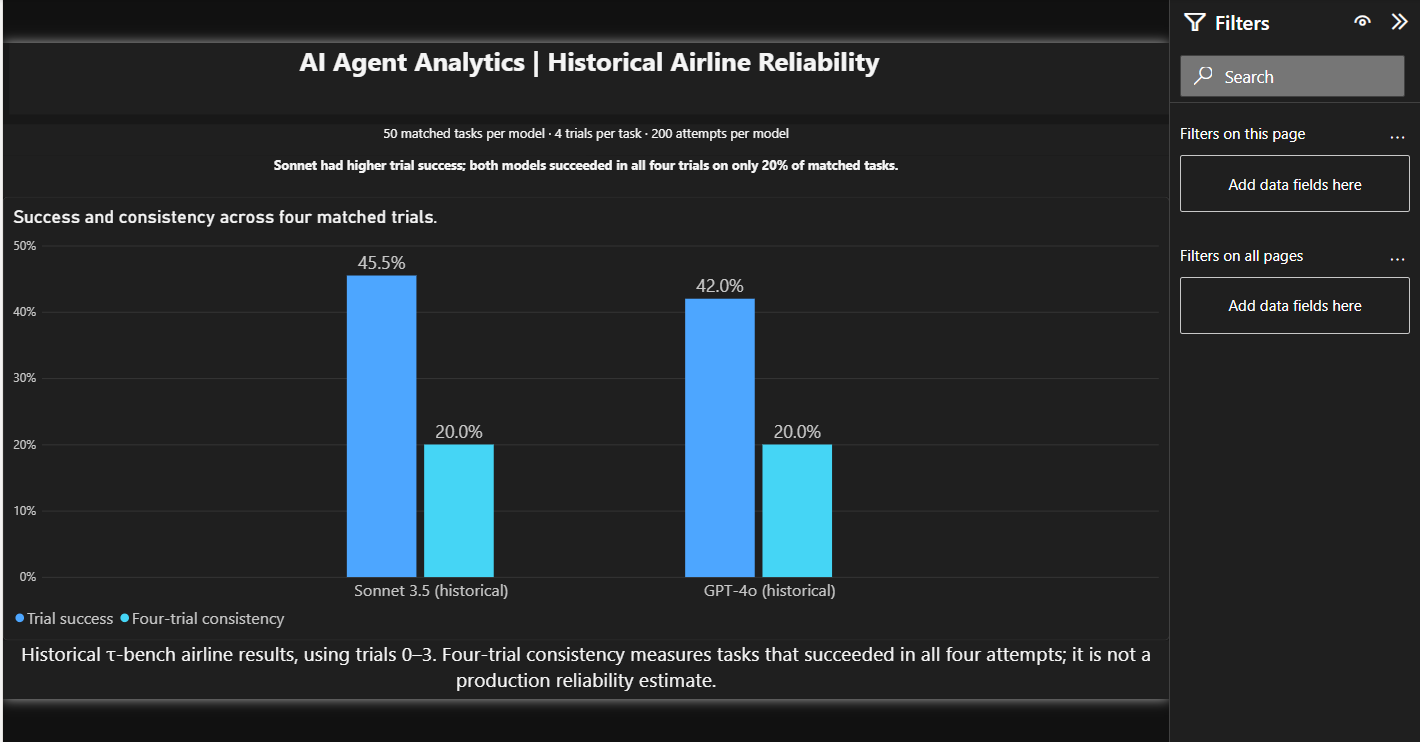

What the dashboard file says about the page in this screenshot:
{"tool":"powerbi","page":{"name":"Historical Reliability.","canvas":[1920,1080],"ordinal":2},"visuals":[{"type":"textbox","box":[10.3,0,1910.1,117.3],"z":0},{"type":"clusteredColumnChart","title":"Success and consistency across four matched trials.","fields":{"Category":["reliability_dashboard.Model label."],"Y":["Max(reliability_dashboard.trial_success_pct)","Max(reliability_dashboard.all_four_success_pct)"]},"box":[0,253.2,1920.4,730.7],"z":1},{"type":"textbox","box":[0,983.9,1920.4,96.7],"z":2},{"type":"textbox","box":[0,133.8,1920.4,51.5],"z":3},{"type":"textbox","box":[0,185.2,1920.4,67.9],"z":4}]}

Visuals, with their boxes on the page's 1920x1080 design canvas (x1, y1, x2, y2). These are canvas units, not pixel positions in the 1420x742 screenshot, which may show the page scaled, cropped or inside an application window:
textbox: [x1=10, y1=0, x2=1920, y2=117]
"Success and consistency across four matched trials." clusteredColumnChart: [x1=0, y1=253, x2=1920, y2=984]
textbox: [x1=0, y1=984, x2=1920, y2=1081]
textbox: [x1=0, y1=134, x2=1920, y2=185]
textbox: [x1=0, y1=185, x2=1920, y2=253]
